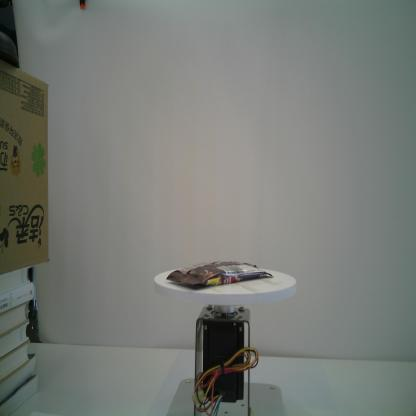Chocolate: (166, 260, 274, 286)
